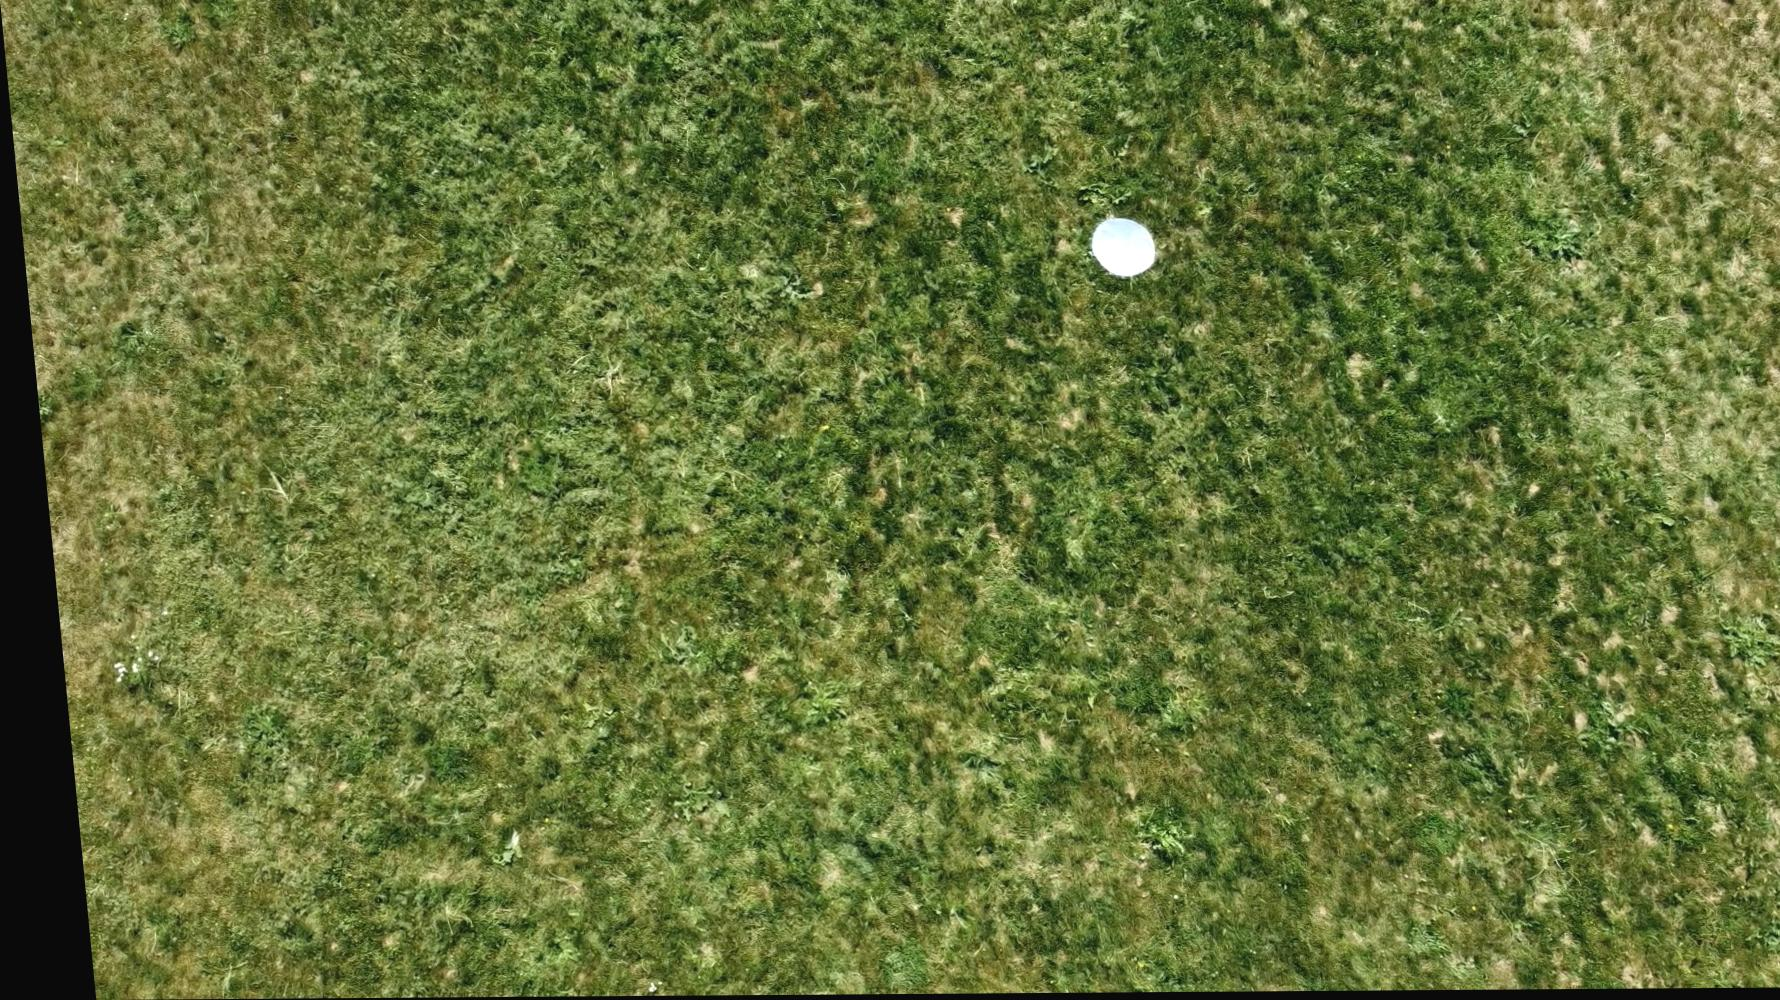Blue: (1079, 216, 1158, 282)
